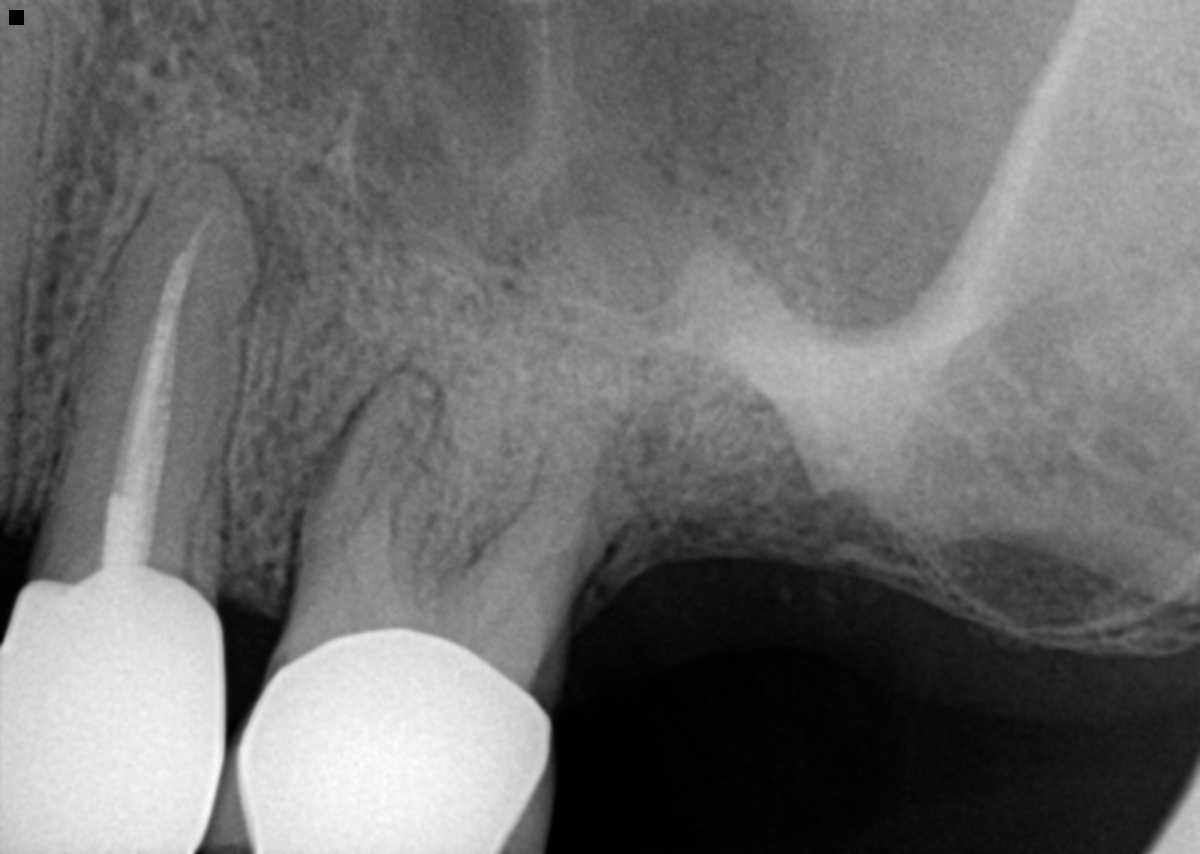Apical Lesion: (241, 153, 307, 317)
Distal Canal: (499, 466, 583, 619)
Distal Root: (455, 415, 636, 642)
Main Root: (41, 158, 262, 579), (0, 0, 46, 481)
Mesial Root: (291, 369, 442, 604)
Palatal Root: (336, 218, 665, 654)
Root Canal Filling: (102, 205, 221, 563)
